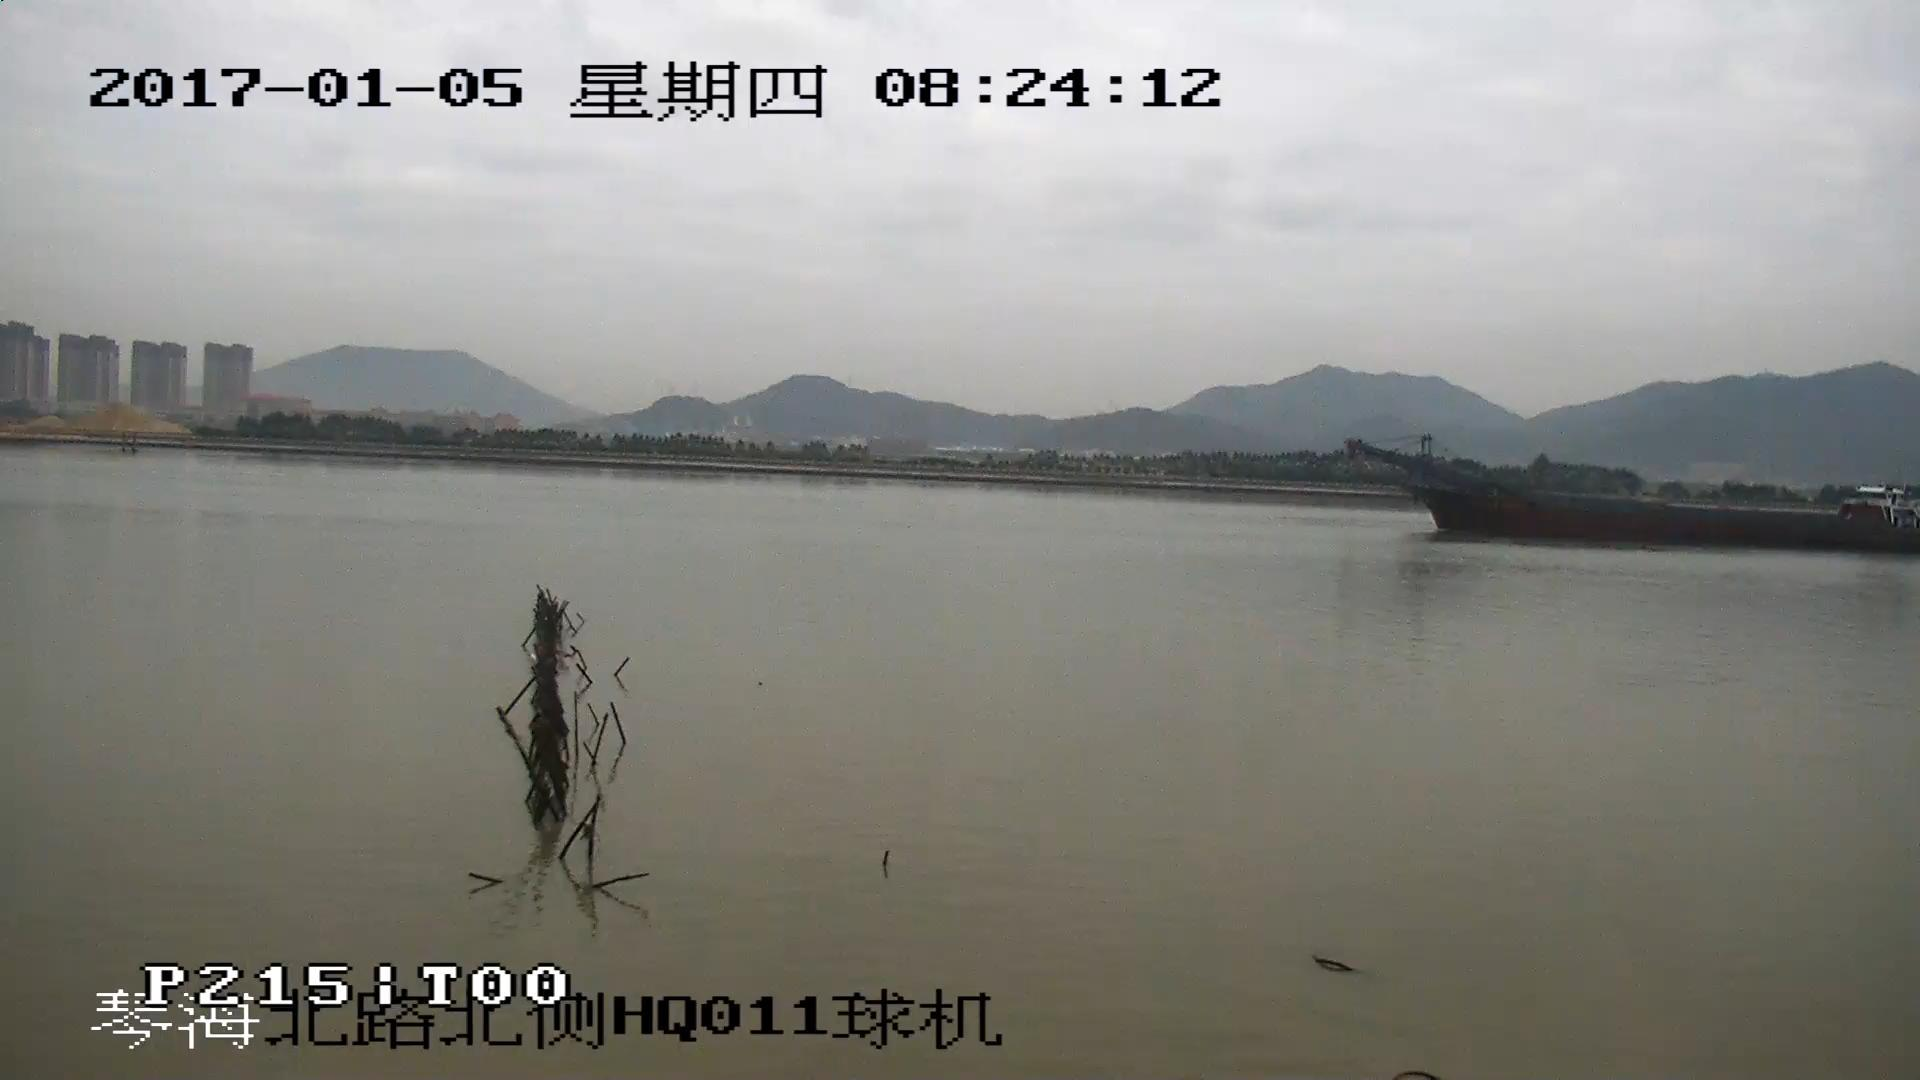Ship: (1345, 439, 1920, 549)
